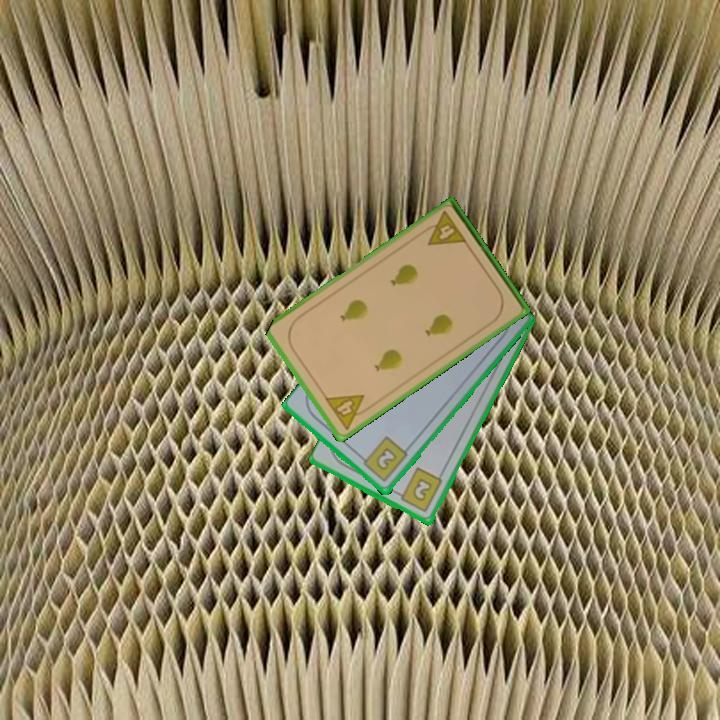2b: (356, 433, 411, 485), (393, 465, 445, 515)
4p: (321, 391, 374, 433), (417, 207, 470, 249)
